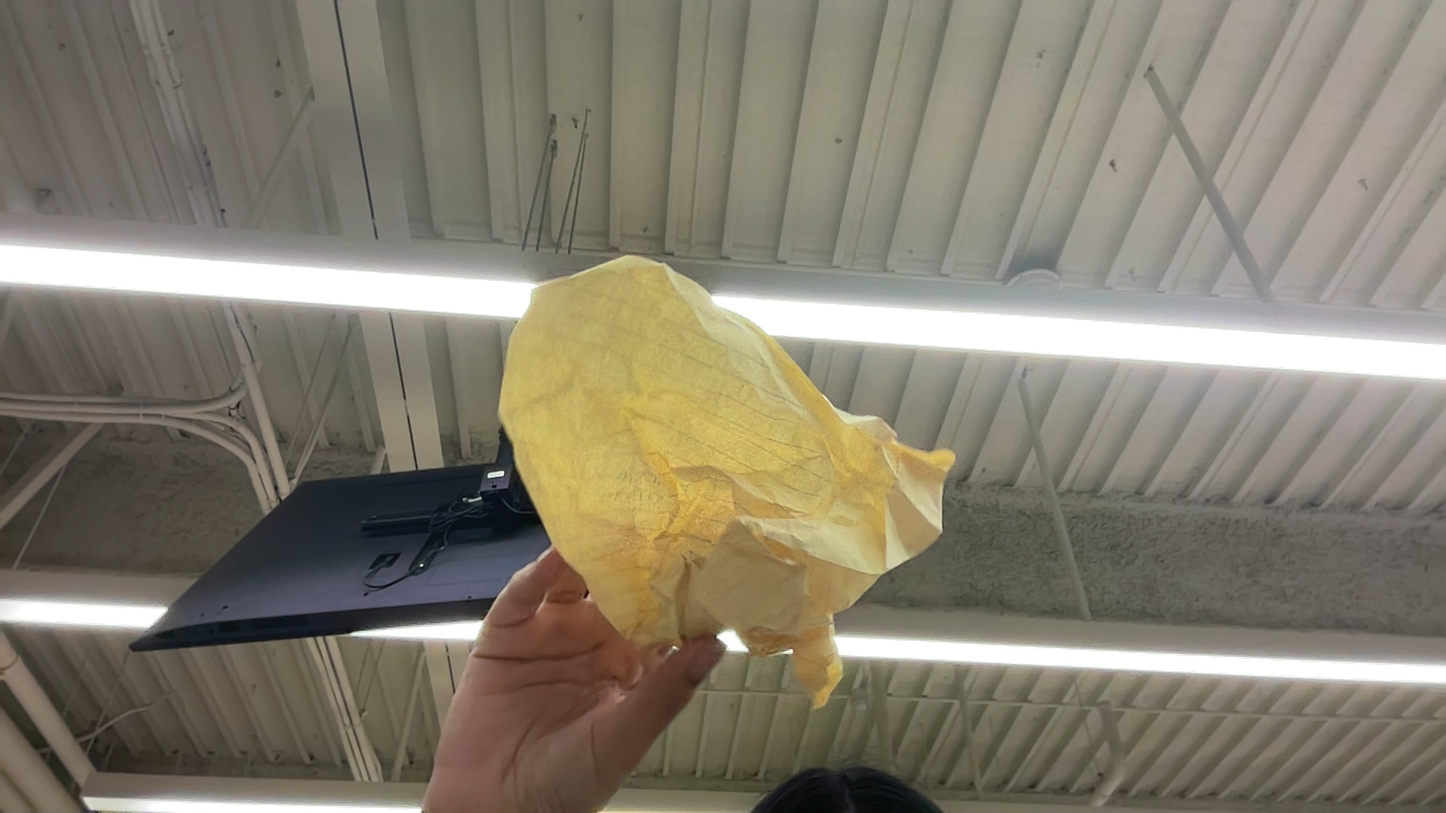Paper: (457, 257, 945, 614)
